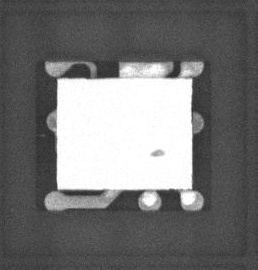DIE_INK: (142, 155, 158, 165)
